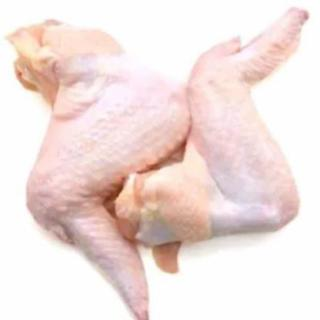Ayam: (9, 18, 189, 320), (121, 12, 301, 245)
